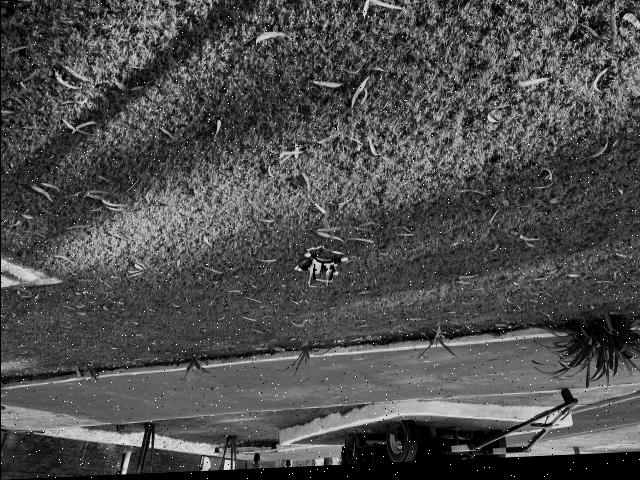drone: (282, 244, 370, 294)
